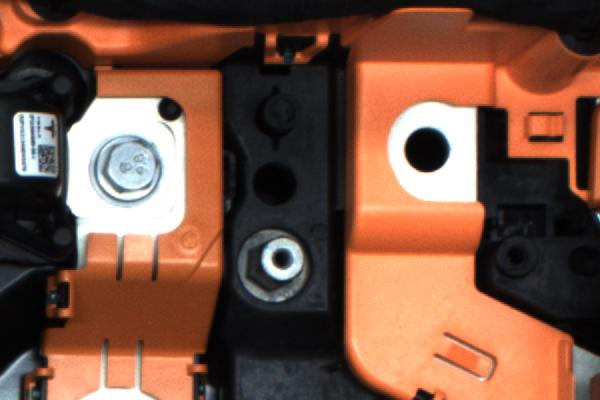nut_b: (92, 132, 169, 214)
